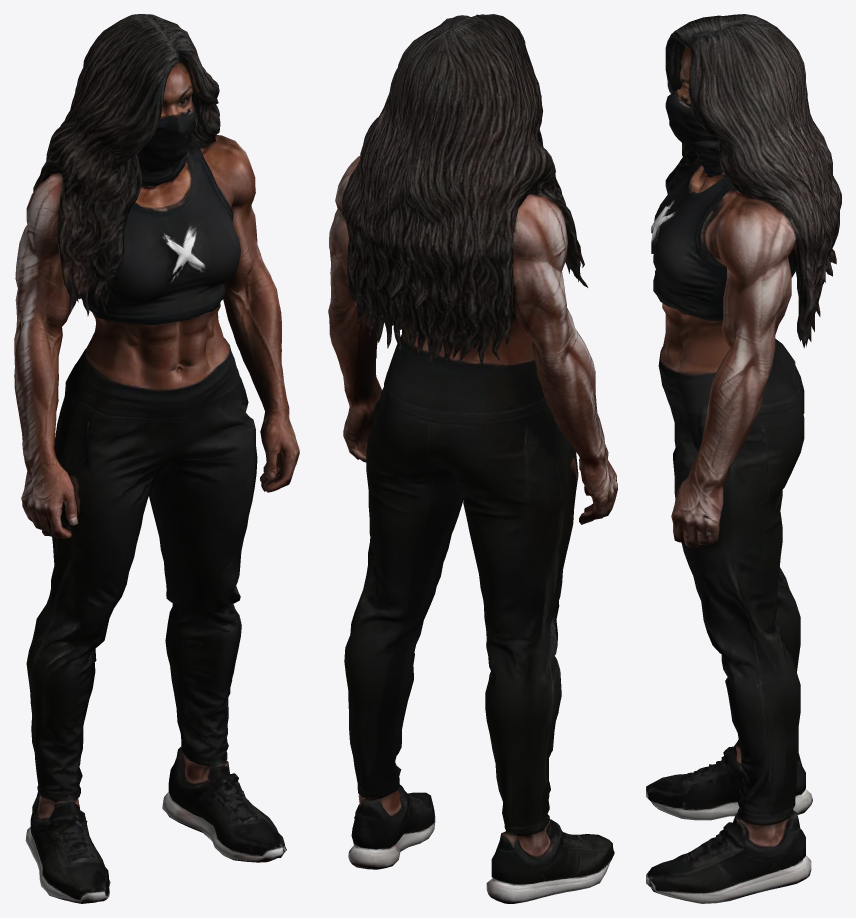
The model's file is TASHA-opt.glb.
The picture shows the model from 3 angles, left to right: view 1: azimuth 30°, elevation 25°; view 2: azimuth 150°, elevation 25°; view 3: azimuth 270°, elevation 25°; orthographic projection.
Visible parts, largest first — view 1: tripo_node_89761c1b-db90-4509-983c-672407cf68c2; view 2: tripo_node_89761c1b-db90-4509-983c-672407cf68c2; view 3: tripo_node_89761c1b-db90-4509-983c-672407cf68c2.
Part boxes in pixels (<box>): tripo_node_89761c1b-db90-4509-983c-672407cf68c2: <box>14,14,299,903</box>; tripo_node_89761c1b-db90-4509-983c-672407cf68c2: <box>328,14,617,903</box>; tripo_node_89761c1b-db90-4509-983c-672407cf68c2: <box>646,14,841,903</box>.
Size of the model in its own units: 0.3234 by 0.9777 by 0.2085.
1 material, 1 textured.
